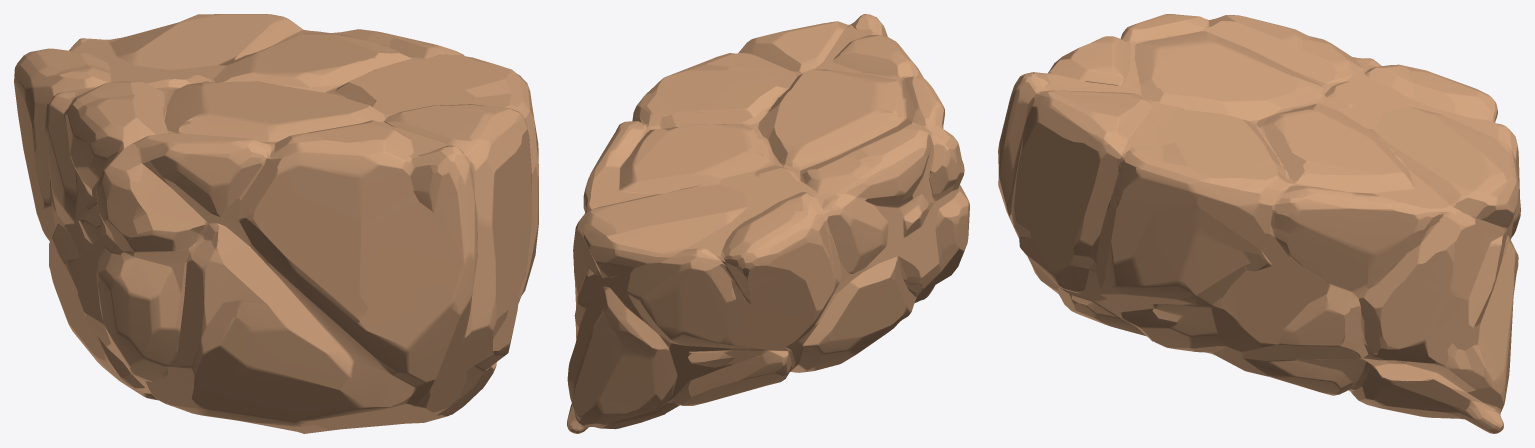
3 renders of one model, left to right at view 1: azimuth 30°, elevation 25°; view 2: azimuth 150°, elevation 25°; view 3: azimuth 270°, elevation 25°, orthographic. The views are drawn at different scales.
Visible parts, largest first — view 1: Mesh_39_LOD0; view 2: Mesh_39_LOD0; view 3: Mesh_39_LOD0.
Boxes of the visible parts, x1,y1,x2,y2 form: Mesh_39_LOD0: (14,14,538,433); Mesh_39_LOD0: (567,14,969,433); Mesh_39_LOD0: (998,14,1520,433).
Size of what is drawn, in the model's own units: 2389 by 2141 by 3216.
